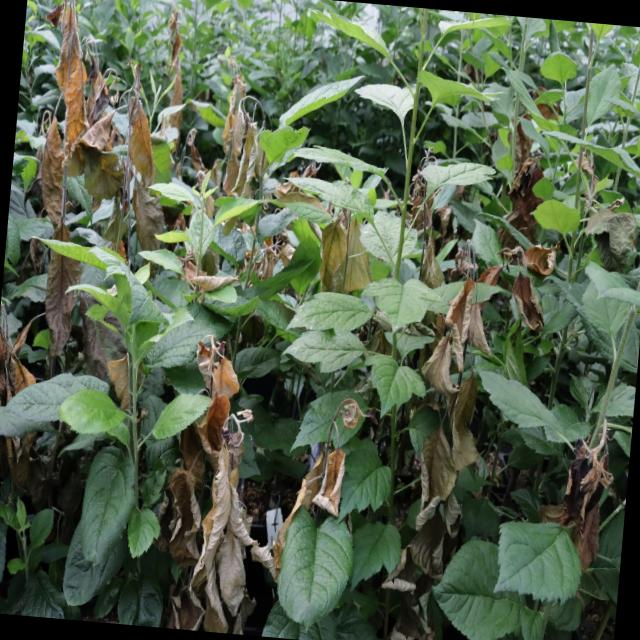-FireBlight-: (177, 346, 265, 634), (30, 0, 103, 265), (558, 432, 611, 559), (437, 280, 492, 398), (413, 420, 472, 530), (218, 84, 268, 200), (314, 400, 364, 516), (502, 124, 540, 236), (410, 176, 450, 280), (498, 250, 550, 324), (160, 21, 190, 112), (0, 332, 35, 398), (453, 238, 476, 280)
